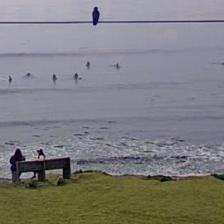surfer: (73, 72, 79, 79), (115, 63, 120, 70), (52, 73, 57, 80), (85, 60, 90, 66), (8, 75, 12, 82), (220, 61, 223, 68), (27, 72, 32, 76)
